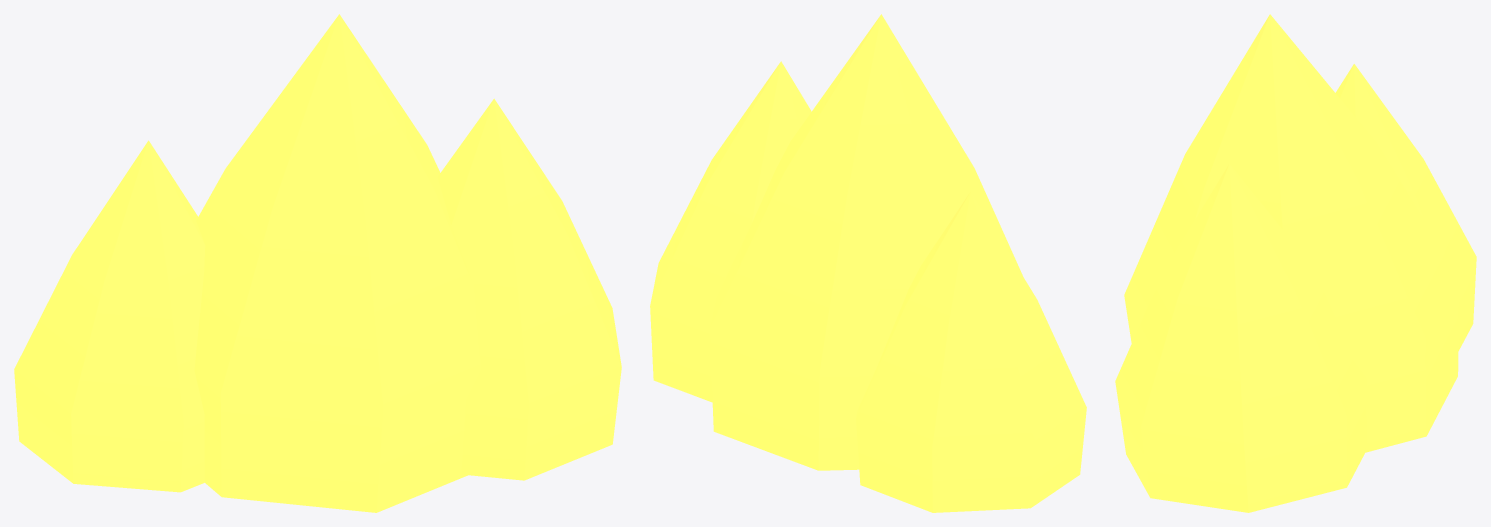
The model's file is Ocak_Ates_Rig.fbx.
3 renders of one model, left to right at view 1: azimuth 30°, elevation 25°; view 2: azimuth 150°, elevation 25°; view 3: azimuth 270°, elevation 25°, orthographic. The views are drawn at different scales.
Parts seen in each view (by area): view 1: Ocak_Ates; view 2: Ocak_Ates; view 3: Ocak_Ates.
Part boxes in pixels (bbox=[...]): Ocak_Ates: bbox=[14, 14, 621, 512]; Ocak_Ates: bbox=[650, 14, 1086, 512]; Ocak_Ates: bbox=[1115, 14, 1476, 512].
Bounding box in the file's own units: 0.4141 × 0.354 × 0.2829.
